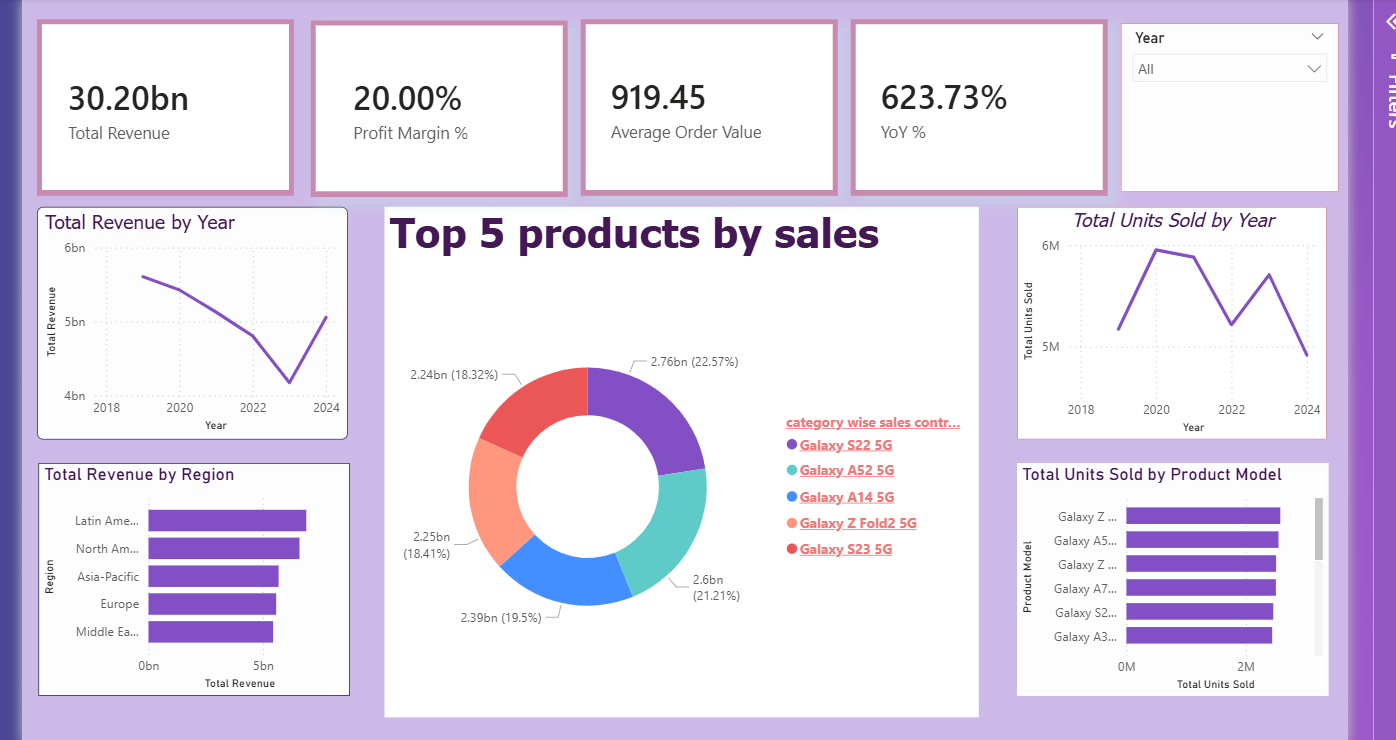

What the dashboard file says about the page in this screenshot:
{"tool":"powerbi","page":{"name":"Page 1","canvas":[1280,720],"ordinal":0},"visuals":[{"type":"slicer","fields":{"Values":["Samsung_Sales_Dataset.Year"]},"box":[1060,24.3,210,162.9],"z":0},{"type":"lineChart","fields":{"Category":["Samsung_Sales_Dataset.Year"],"Y":["Samsung_Sales_Dataset.Total Revenue"]},"box":[15,201.2,300,225],"z":1000},{"type":"barChart","fields":{"Category":["Samsung_Sales_Dataset.Region"],"Y":["Samsung_Sales_Dataset.Total Revenue"]},"box":[15.1,448.7,300.5,225],"z":2000},{"type":"lineChart","fields":{"Category":["Samsung_Sales_Dataset.Year"],"Y":["Samsung_Sales_Dataset.Total Units Sold"]},"box":[960.6,201.7,299.1,225],"z":3000},{"type":"donutChart","title":"Top 5 products by sales","fields":{"Y":["Samsung_Sales_Dataset.Total Revenue"],"Category":["Samsung_Sales_Dataset.Product Model"]},"box":[349.9,201.7,573.6,492.6],"z":4000},{"type":"cardVisual","fields":{"Data":["Samsung_Sales_Dataset.Profit Margin %"]},"box":[278.6,22,248,170],"z":5000},{"type":"cardVisual","fields":{"Data":["Samsung_Sales_Dataset.Average Order Value"]},"box":[538.8,20,248,170],"z":6000},{"type":"cardVisual","fields":{"Data":["Samsung_Sales_Dataset.YoY %"]},"box":[800,20,248,170],"z":7000},{"type":"clusteredBarChart","fields":{"Y":["Samsung_Sales_Dataset.Total Units Sold"],"Category":["Samsung_Sales_Dataset.Product Model"]},"box":[960.6,448.7,300.5,225],"z":8000},{"type":"cardVisual","fields":{"Data":["Samsung_Sales_Dataset.Total Revenue"]},"box":[15,20,248,170],"z":9000}]}

Visuals, with their boxes in screenshot pixels (x1, y1, x2, y2):
slicer - Samsung_Sales_Dataset.Year: x1=1120 y1=18 x2=1341 y2=190
lineChart - Samsung_Sales_Dataset.Year x Samsung_Sales_Dataset.Total Revenue: x1=19 y1=205 x2=335 y2=442
barChart - Samsung_Sales_Dataset.Region x Samsung_Sales_Dataset.Total Revenue: x1=20 y1=465 x2=336 y2=702
lineChart - Samsung_Sales_Dataset.Year x Samsung_Sales_Dataset.Total Units Sold: x1=1015 y1=205 x2=1330 y2=442
"Top 5 products by sales" donutChart: x1=372 y1=205 x2=976 y2=724
cardVisual - Samsung_Sales_Dataset.Profit Margin %: x1=297 y1=16 x2=558 y2=195
cardVisual - Samsung_Sales_Dataset.Average Order Value: x1=571 y1=14 x2=832 y2=193
cardVisual - Samsung_Sales_Dataset.YoY %: x1=846 y1=14 x2=1107 y2=193
clusteredBarChart - Samsung_Sales_Dataset.Total Units Sold x Samsung_Sales_Dataset.Product Model: x1=1015 y1=465 x2=1332 y2=702
cardVisual - Samsung_Sales_Dataset.Total Revenue: x1=19 y1=14 x2=281 y2=193
